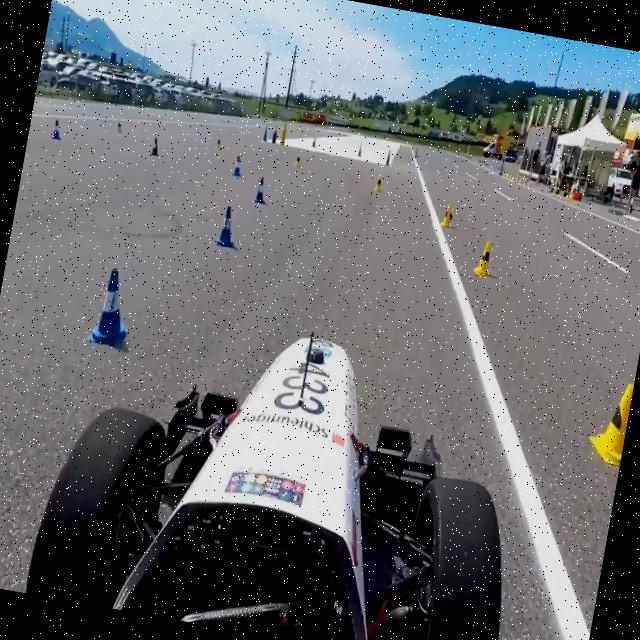blue_cone: (88, 260, 138, 350), (213, 203, 239, 250), (250, 170, 270, 206), (48, 114, 64, 142), (230, 153, 244, 178), (148, 132, 160, 156)
yellow_cone: (584, 363, 636, 472), (473, 237, 496, 277), (440, 198, 454, 230), (371, 172, 384, 195), (114, 116, 124, 138), (292, 149, 303, 169), (212, 136, 222, 154)
